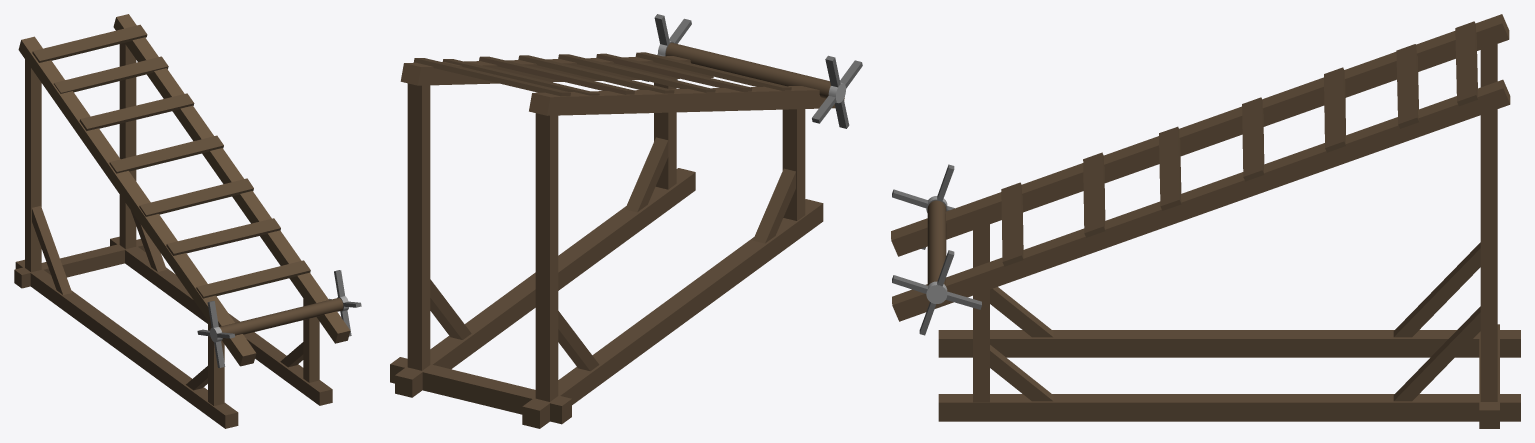
The model's file is Torture Device.glb.
The picture shows the model from 3 angles, left to right: view 1: azimuth 30°, elevation 25°; view 2: azimuth 150°, elevation 25°; view 3: azimuth 270°, elevation 25°; orthographic projection. The views are drawn at different scales.
Visible parts, largest first — view 1: torture_device_004; view 2: torture_device_004; view 3: torture_device_004.
Boxes of the visible parts, left/top/right/bottom form: torture_device_004: left=14, top=14, right=361, bottom=428; torture_device_004: left=390, top=14, right=862, bottom=428; torture_device_004: left=891, top=14, right=1520, bottom=428.
Bounding box in the file's own units: 1 × 1.75 × 2.98.
